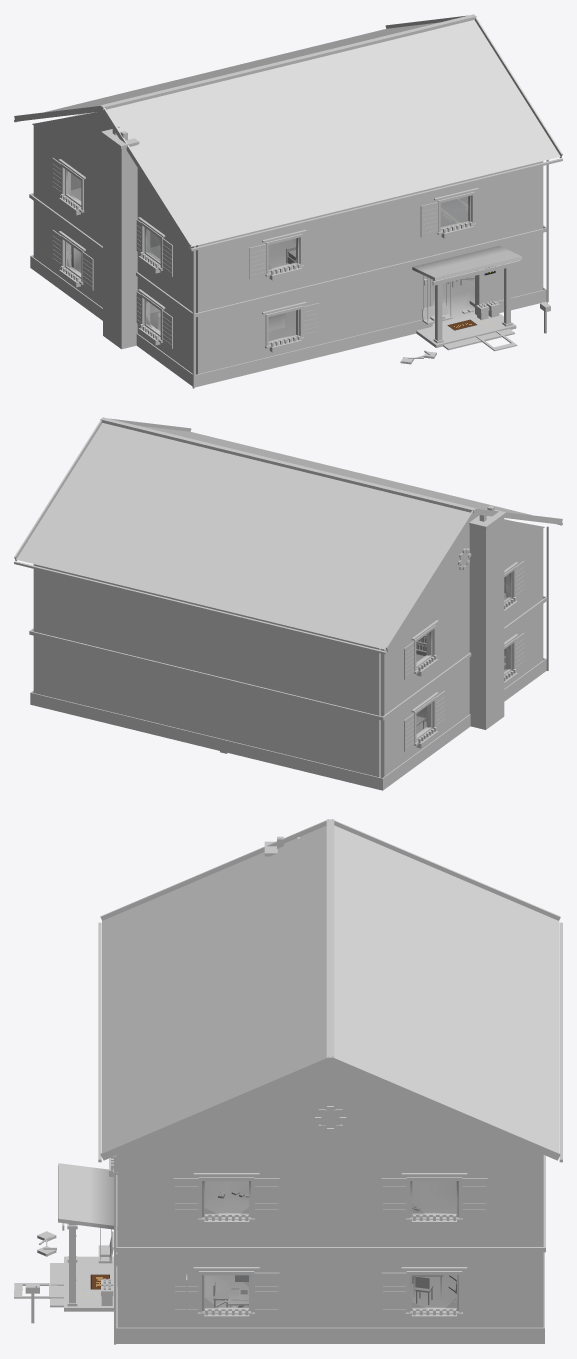
The model's file is big_house_2.glb.
The picture shows the model from 3 angles, top to bottom: view 1: azimuth 30°, elevation 25°; view 2: azimuth 150°, elevation 25°; view 3: azimuth 270°, elevation 25°; orthographic projection. The views are drawn at different scales.
Parts seen in each view (by area): view 1: big_house_2; view 2: big_house_2; view 3: big_house_2.
Part boxes in pixels (x1=…): big_house_2: x1=14, y1=14, x2=562, y2=388; big_house_2: x1=14, y1=417, x2=562, y2=790; big_house_2: x1=14, y1=819, x2=562, y2=1344.
Size of the model in its own units: 16.55 by 9.58 by 15.85.
4 materials, 3 textured.
